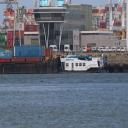tugboat: (50, 51, 112, 77)
